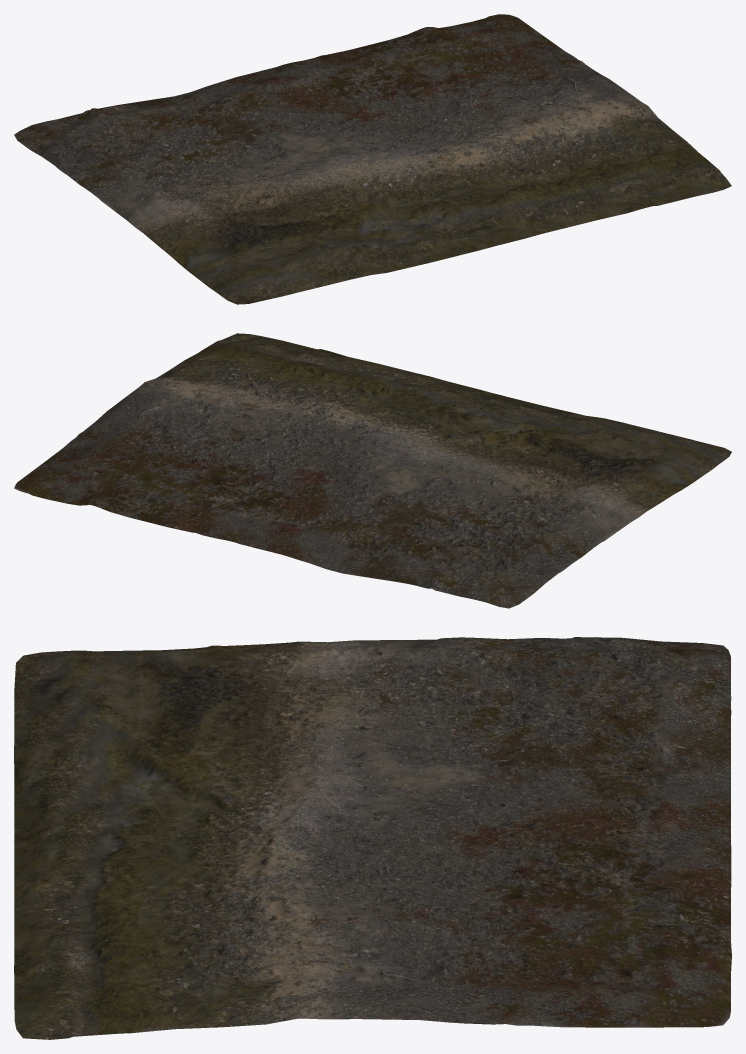
Rendered from rock-shore.glb.
3 renders of one model, top to bottom at view 1: azimuth 30°, elevation 25°; view 2: azimuth 150°, elevation 25°; view 3: azimuth 270°, elevation 25°, orthographic. The views are drawn at different scales.
Visible parts, largest first — view 1: coast_line_01; view 2: coast_line_01; view 3: coast_line_01.
Boxes of the visible parts, left/top/right/bottom form: coast_line_01: left=14, top=14, right=731, bottom=304; coast_line_01: left=14, top=333, right=731, bottom=608; coast_line_01: left=14, top=637, right=731, bottom=1039.
Size of the model in its own units: 54.61 by 2.6 by 42.96.
Materials: 1 (1 with a texture image).
